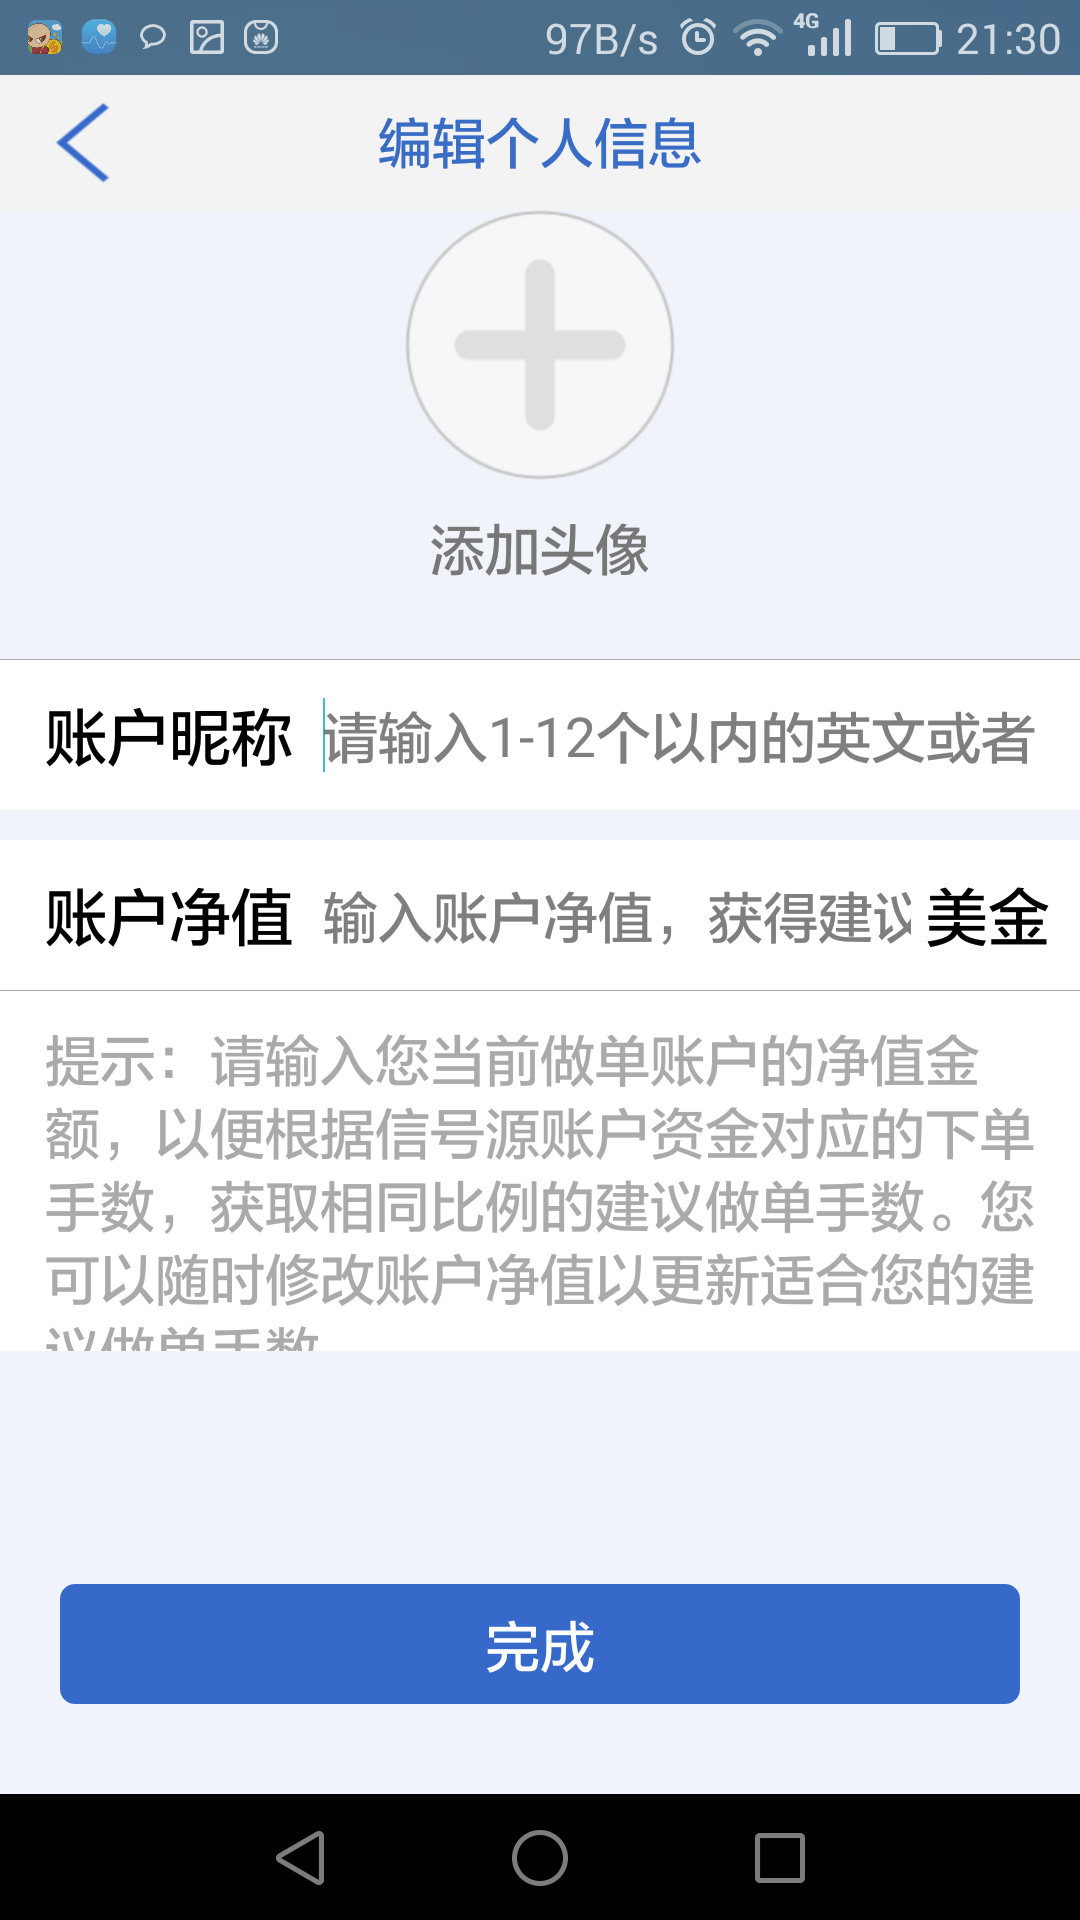button: (49, 1575, 1033, 1721)
imgview: (396, 202, 682, 487)
textview: (4, 653, 1080, 1371)
